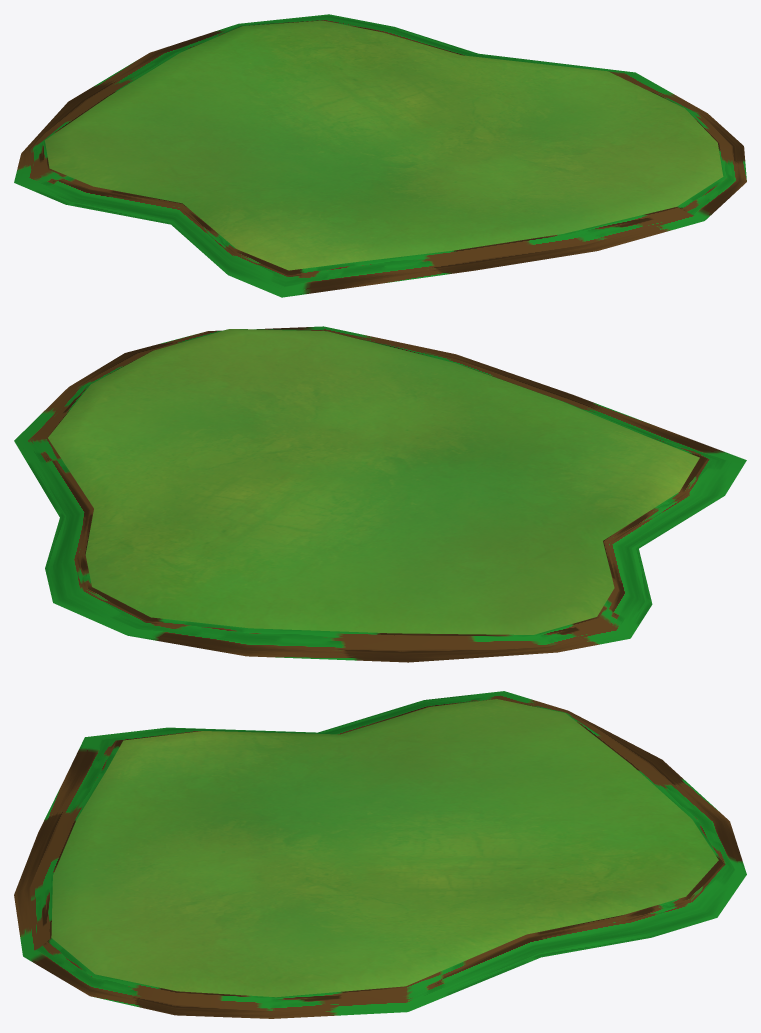
The model's file is grass mound 1.fbx.
3 renders of one model, top to bottom at view 1: azimuth 30°, elevation 25°; view 2: azimuth 150°, elevation 25°; view 3: azimuth 270°, elevation 25°, orthographic. The views are drawn at different scales.
Visible parts, largest first — view 1: pCylinder7; view 2: pCylinder7; view 3: pCylinder7.
Part boxes in pixels (x1=…): pCylinder7: x1=14, y1=14, x2=746, y2=297; pCylinder7: x1=14, y1=326, x2=746, y2=662; pCylinder7: x1=14, y1=691, x2=746, y2=1018.
Bounding box in the file's own units: 4.5 × 0.0986 × 4.25.
Materials: 2 (2 with a texture image).
